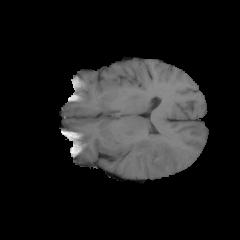glioma: (122, 132, 183, 177)
